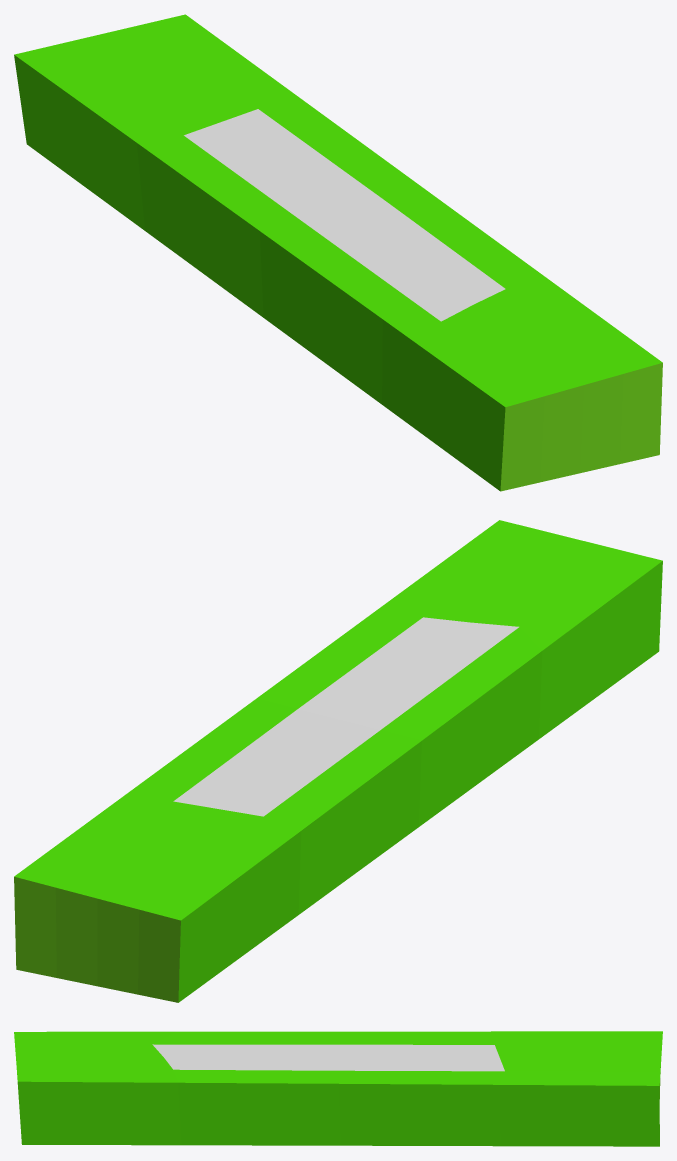
Rendered from gum_pack 1.fbx.
3 views of the same model, one above another, from view 1: azimuth 30°, elevation 25°; view 2: azimuth 150°, elevation 25°; view 3: azimuth 270°, elevation 25° (orthographic). The views are drawn at different scales.
Parts seen in each view (by area): view 1: Cube; view 2: Cube; view 3: Cube.
Part boxes in pixels (x1,y1,x2,y2): Cube: (14, 14, 662, 491); Cube: (14, 520, 662, 1002); Cube: (14, 1031, 662, 1146).
Size of the model in its own units: 204 by 111 by 1014.
